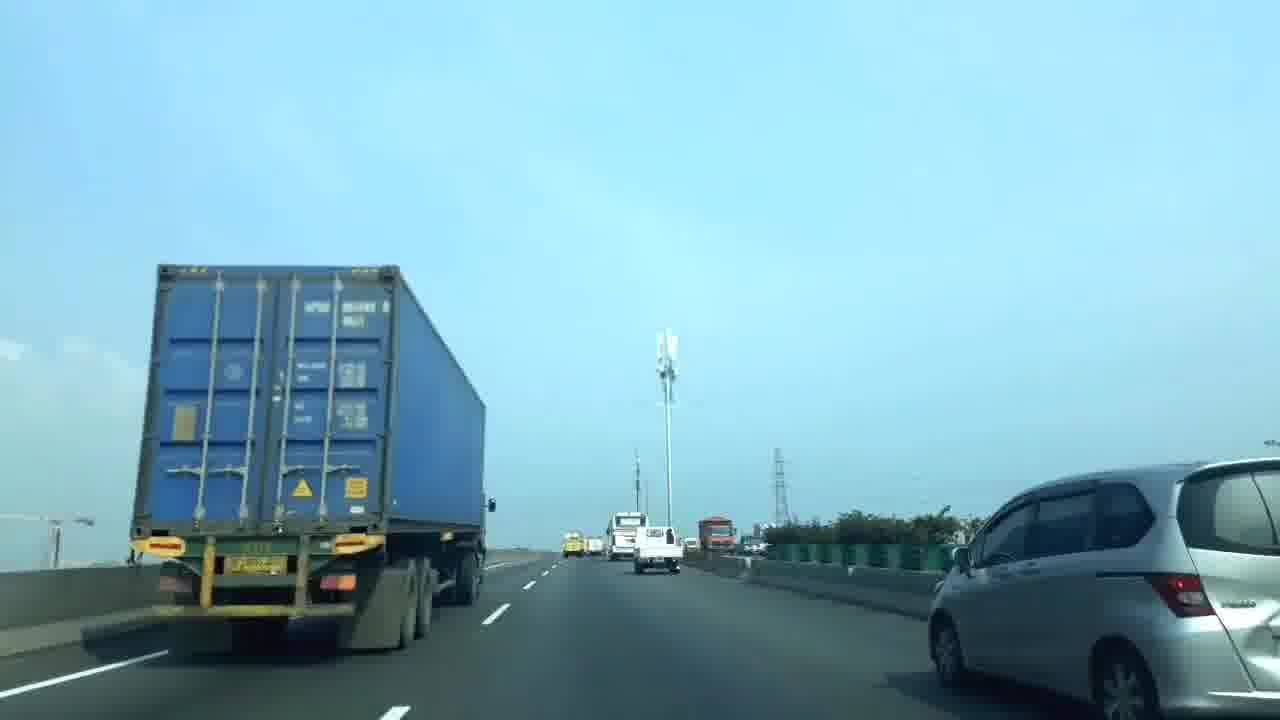plate_positive: (223, 556, 287, 578)
